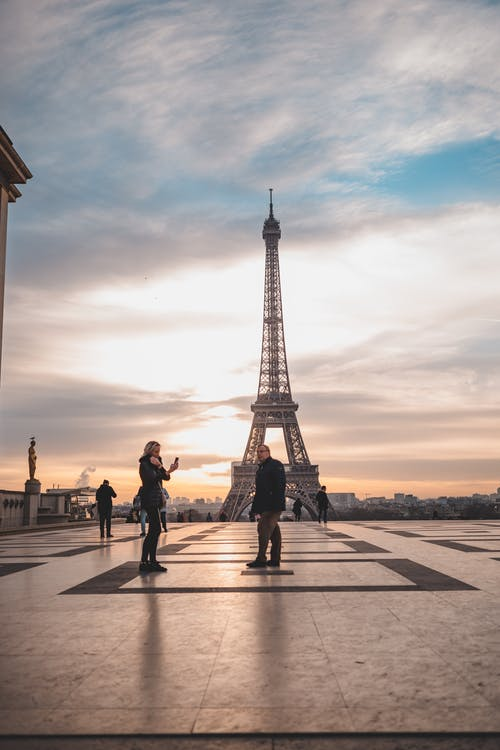eiffel tower: (220, 170, 333, 517)
